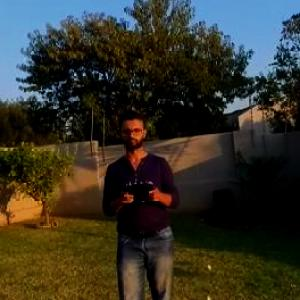follow: (93, 95, 181, 299)
